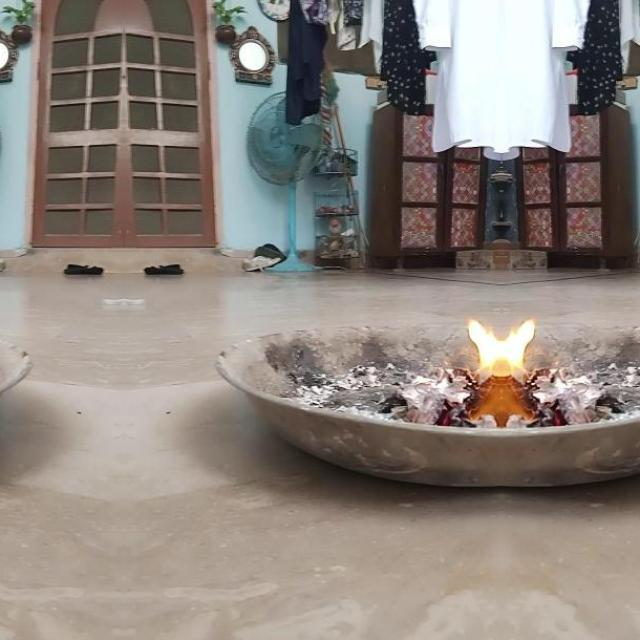smoke: (464, 312, 501, 401), (502, 312, 539, 401)
